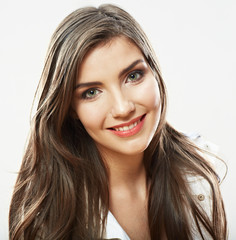teen: (55, 12, 172, 161)
